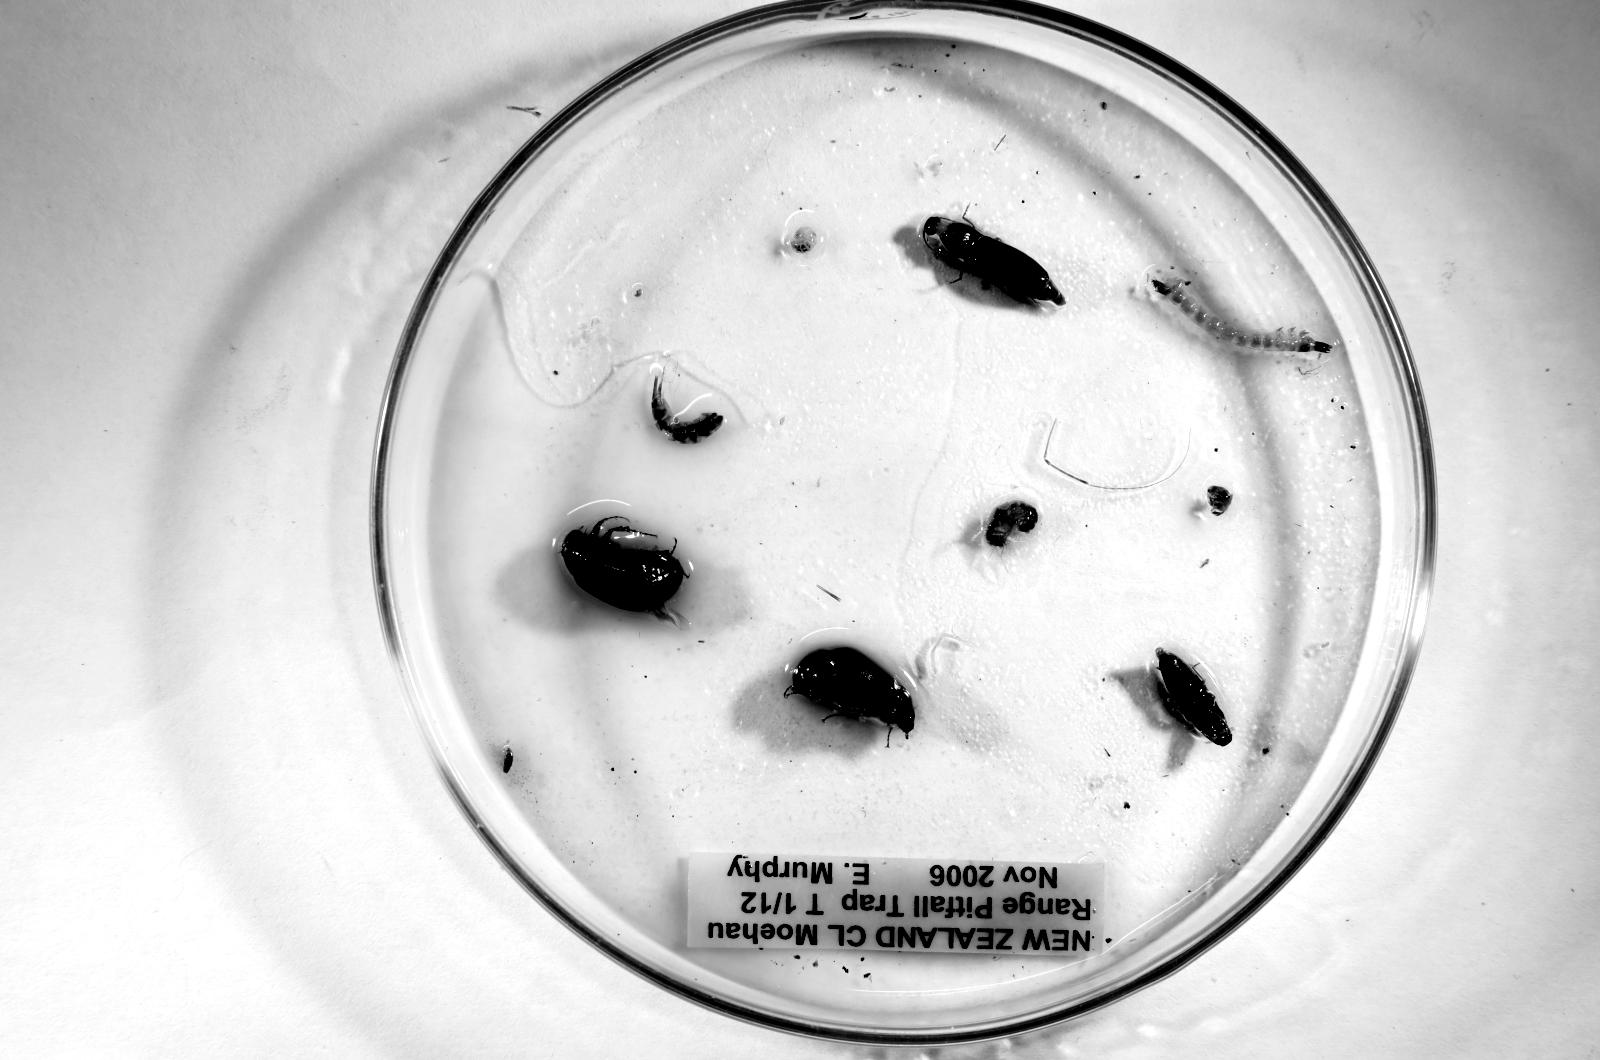amphipoda: (984, 500, 1037, 548)
coleoptera: (562, 517, 687, 627), (921, 216, 1065, 306), (784, 647, 914, 739), (1157, 647, 1231, 746)
coleoptera_larva: (1148, 278, 1333, 354)
